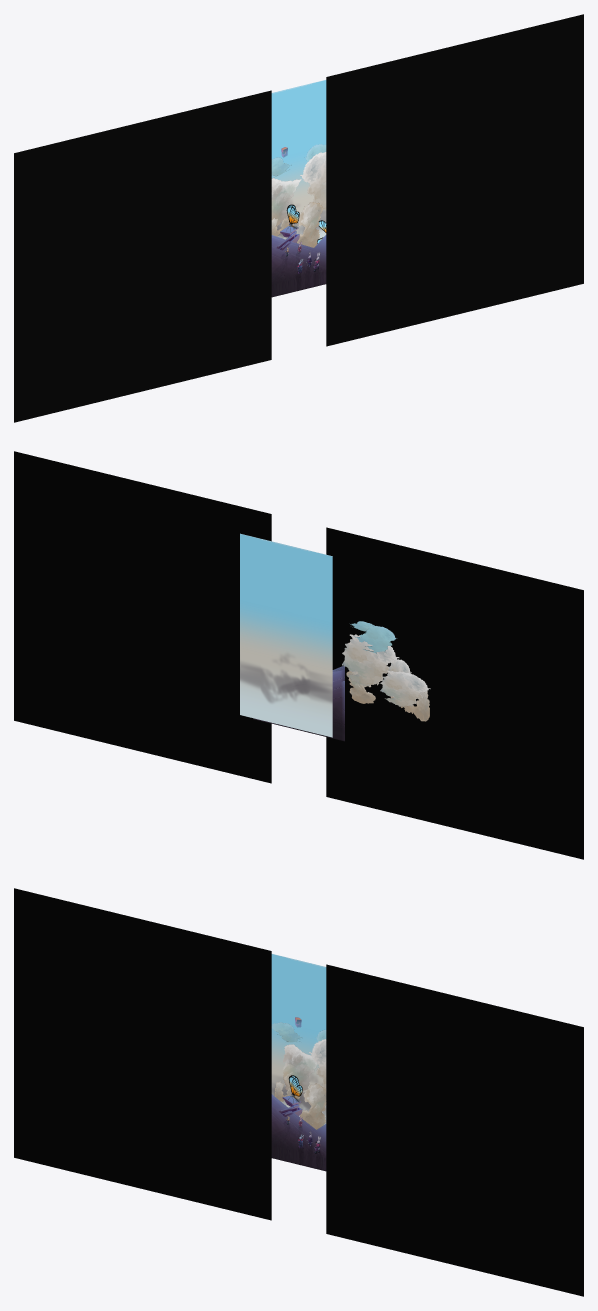
The model's file is portrait3.glb.
3 views of the same model, one above another, from view 1: azimuth 30°, elevation 25°; view 2: azimuth 150°, elevation 25°; view 3: azimuth 330°, elevation 25° (orthographic).
Parts seen in each view (by area): view 1: left_cover, right_cover, sky, ground.png, front_clouds0, mid_cloud_0.png, mid_cloud_1.png; view 2: right_cover, left_cover, sky, mid_cloud_0_1, mid_cloud_0_3, ground.png, front_clouds1, back_cloud_1_2; view 3: left_cover, right_cover, sky, ground.png, front_clouds0, mid_cloud_1.png.
Part boxes in pixels (x1,y1,x2,y2): left_cover: [14, 90, 271, 422]; right_cover: [326, 14, 583, 346]; sky: [271, 80, 326, 239]; ground.png: [271, 226, 326, 297]; front_clouds0: [271, 201, 322, 247]; mid_cloud_0.png: [300, 152, 326, 210]; mid_cloud_1.png: [271, 178, 301, 226]; right_cover: [14, 451, 271, 783]; left_cover: [326, 527, 583, 859]; sky: [240, 533, 332, 737]; mid_cloud_0_1: [342, 634, 399, 686]; mid_cloud_0_3: [380, 670, 430, 706]; ground.png: [253, 666, 344, 741]; front_clouds1: [346, 670, 429, 721]; back_cloud_1_2: [354, 625, 397, 653]; left_cover: [14, 888, 271, 1220]; right_cover: [326, 964, 583, 1296]; sky: [271, 954, 326, 1125]; ground.png: [271, 1094, 326, 1171]; front_clouds0: [274, 1081, 326, 1129]; mid_cloud_1.png: [282, 1044, 317, 1093].
Size of the model in its own units: 4.43 by 2 by 0.1698.
Materials: 15 (14 with a texture image).
